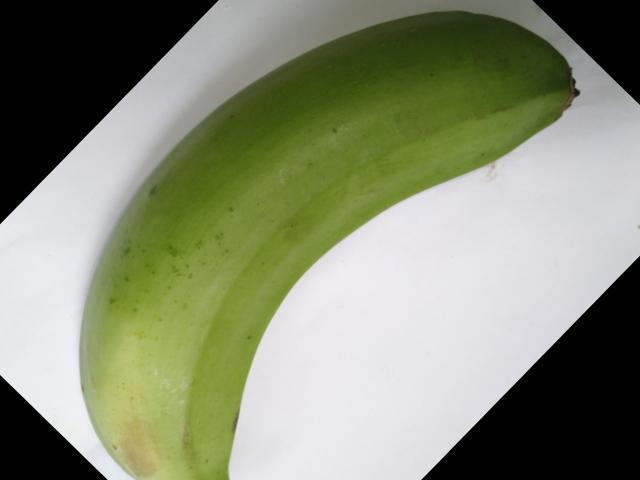freshunripe: (65, 0, 574, 479)
